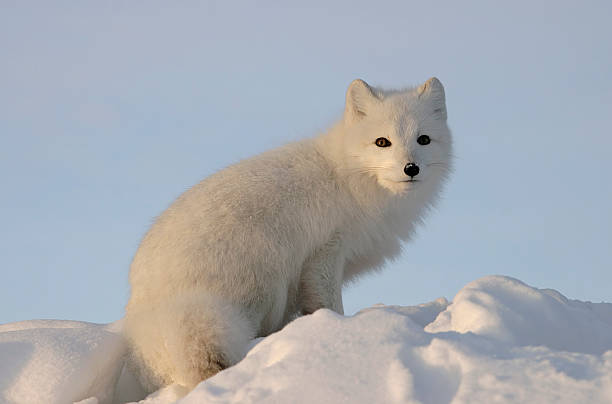arcticfox: (349, 108, 460, 204)
